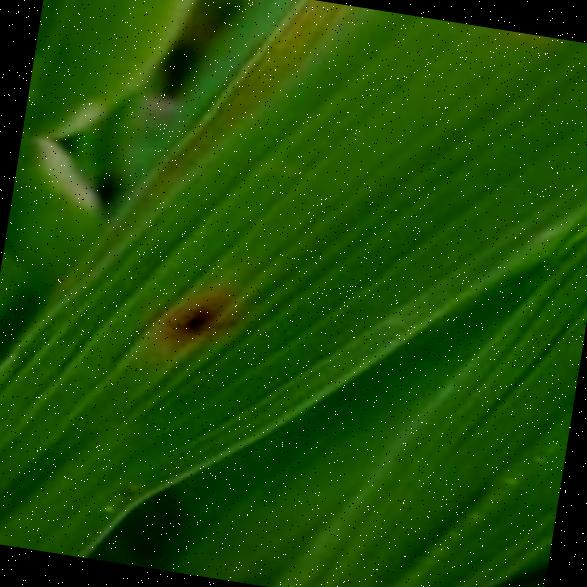Brown_Spot: (149, 272, 241, 354)
